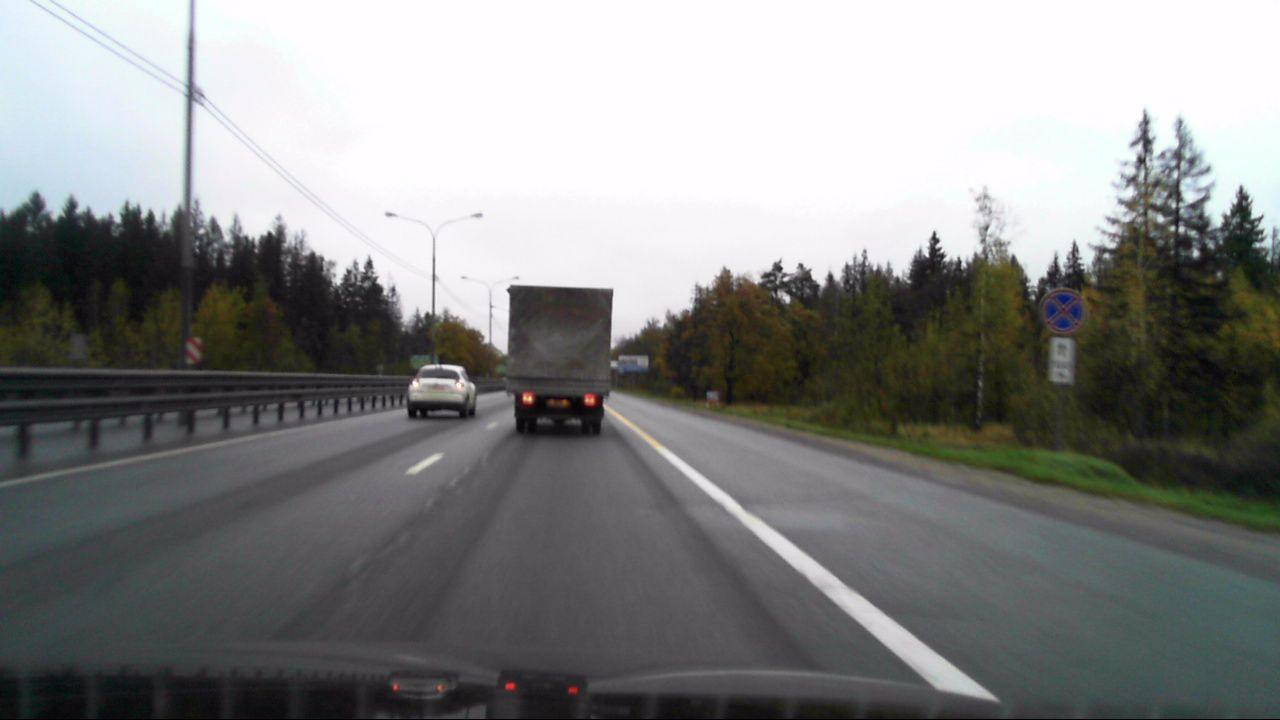3_27: (1038, 284, 1086, 337)
8_2_2: (1048, 337, 1074, 383)
